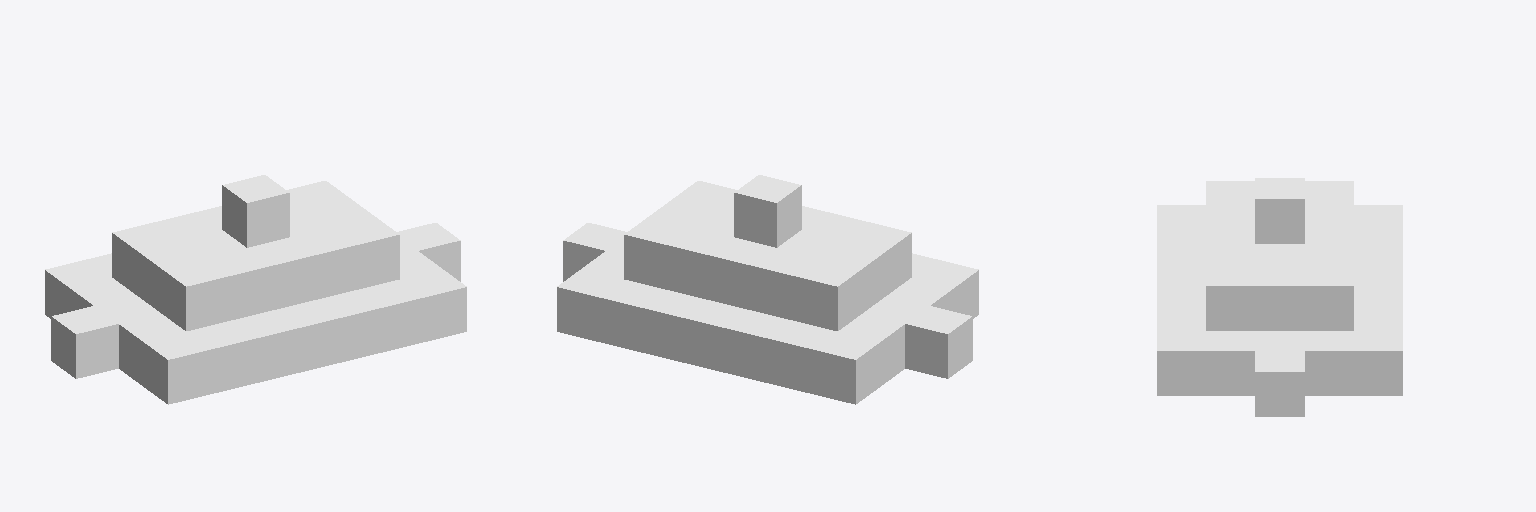
The model's file is virginghost_DownDie.obj.
The picture shows the model from 3 angles: view 1: azimuth 30°, elevation 25°; view 2: azimuth 150°, elevation 25°; view 3: azimuth 270°, elevation 25°; orthographic projection.
Visible parts, largest first — view 1: object 1; view 2: object 1; view 3: object 1.
Part boxes in pixels (bbox=[...]): object 1: bbox=[45, 175, 466, 404]; object 1: bbox=[557, 175, 978, 404]; object 1: bbox=[1157, 178, 1402, 416].
Bounding box in the file's own units: 0.9 × 0.3 × 0.5.